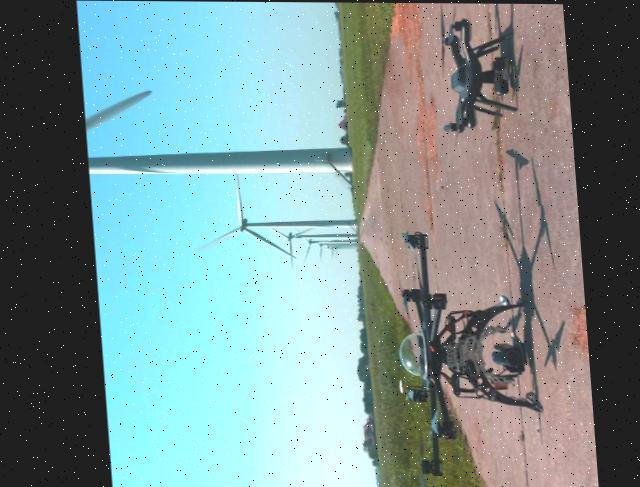drone: (493, 3, 591, 487), (424, 2, 530, 150)
